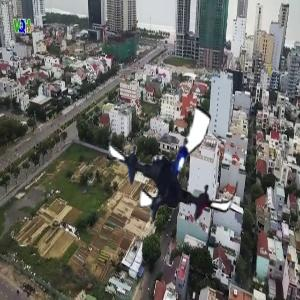drone: (101, 90, 248, 237)
